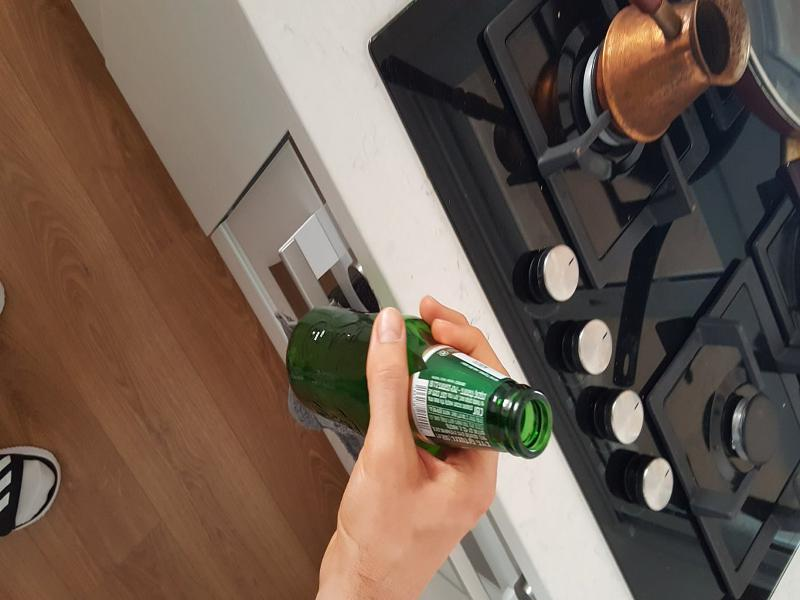Beer: (285, 309, 552, 457)
